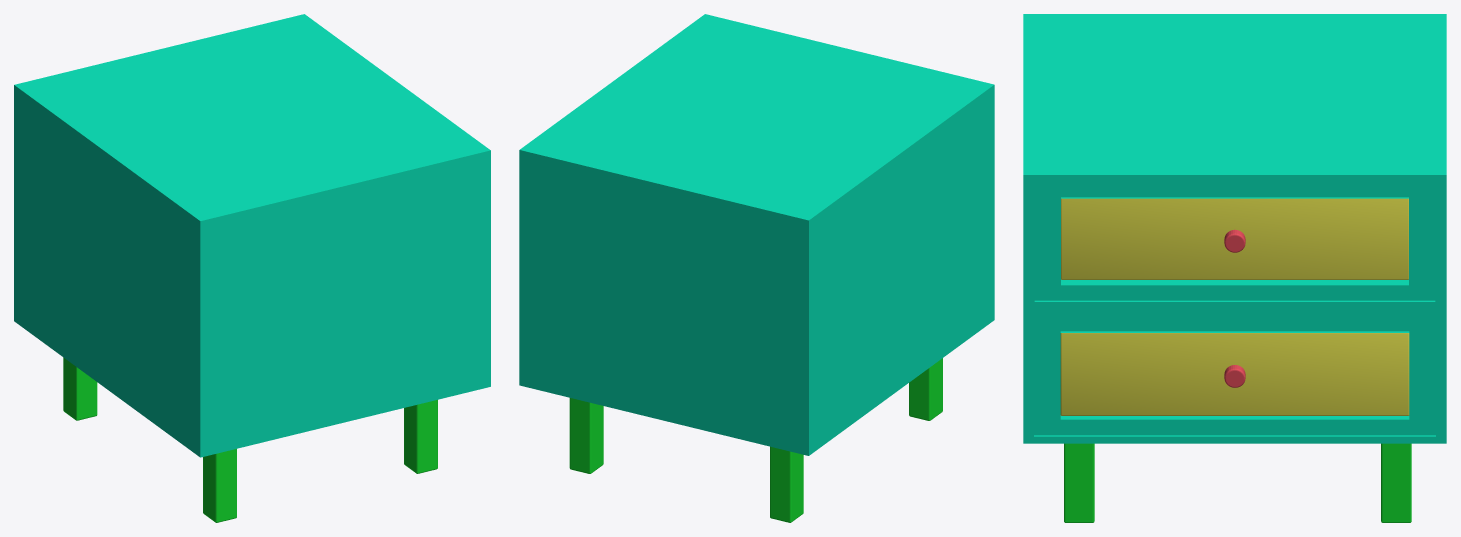
File: Metcalf_Nightstand_05.fbx
3 views of the same model, side by side, from view 1: azimuth 30°, elevation 25°; view 2: azimuth 150°, elevation 25°; view 3: azimuth 270°, elevation 25° (orthographic). The views are drawn at different scales.
Visible parts, largest first — view 1: Nightstand, Cube.001, Cube.002, Cube.003; view 2: Nightstand, Cube.004, Cube.003, Cube.002; view 3: Nightstand, Drawer2, Drawer1, Cube.001, Cube.004.
Part boxes in pixels (x1,y1,x2,y2): Nightstand: (14, 14, 490, 457); Cube.001: (404, 399, 437, 473); Cube.002: (203, 449, 236, 522); Cube.003: (63, 357, 97, 420); Nightstand: (519, 14, 994, 455); Cube.004: (569, 398, 603, 473); Cube.003: (770, 446, 803, 522); Cube.002: (909, 358, 942, 420); Nightstand: (1023, 14, 1446, 443); Drawer2: (1060, 333, 1409, 415); Drawer1: (1061, 198, 1408, 279); Cube.001: (1064, 443, 1094, 522); Cube.004: (1381, 443, 1411, 522).
Size of the model in its own units: 45.98 by 48.7 by 50.8.
